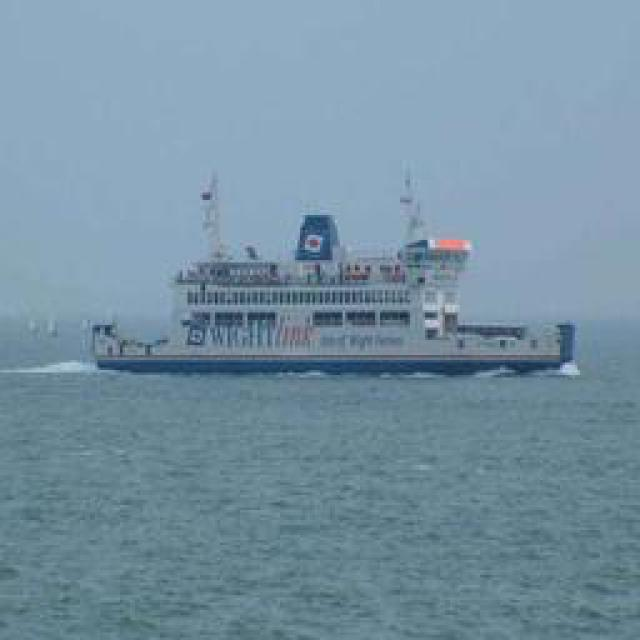Ship: (91, 161, 576, 384)
